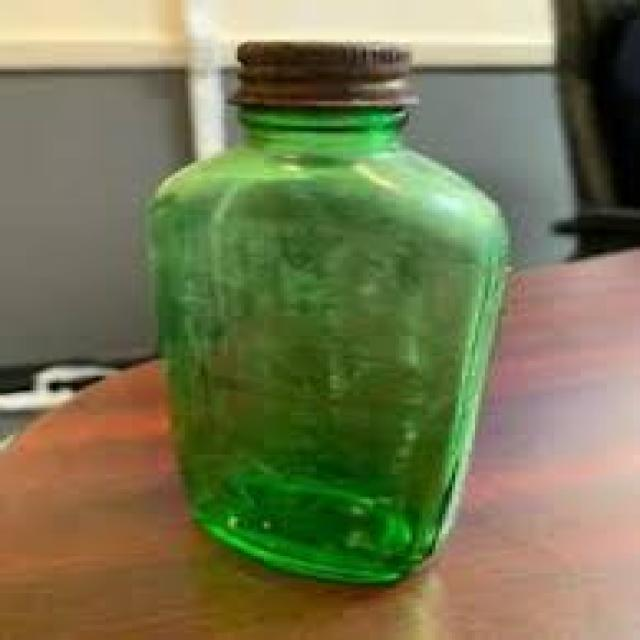glass: (142, 104, 508, 586)
metal: (224, 42, 416, 109)
